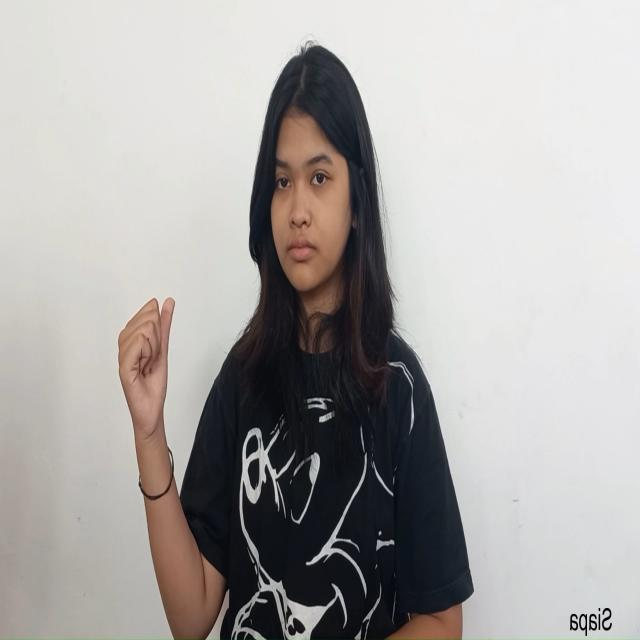Siapa -BISINDO-: (116, 293, 177, 452)
